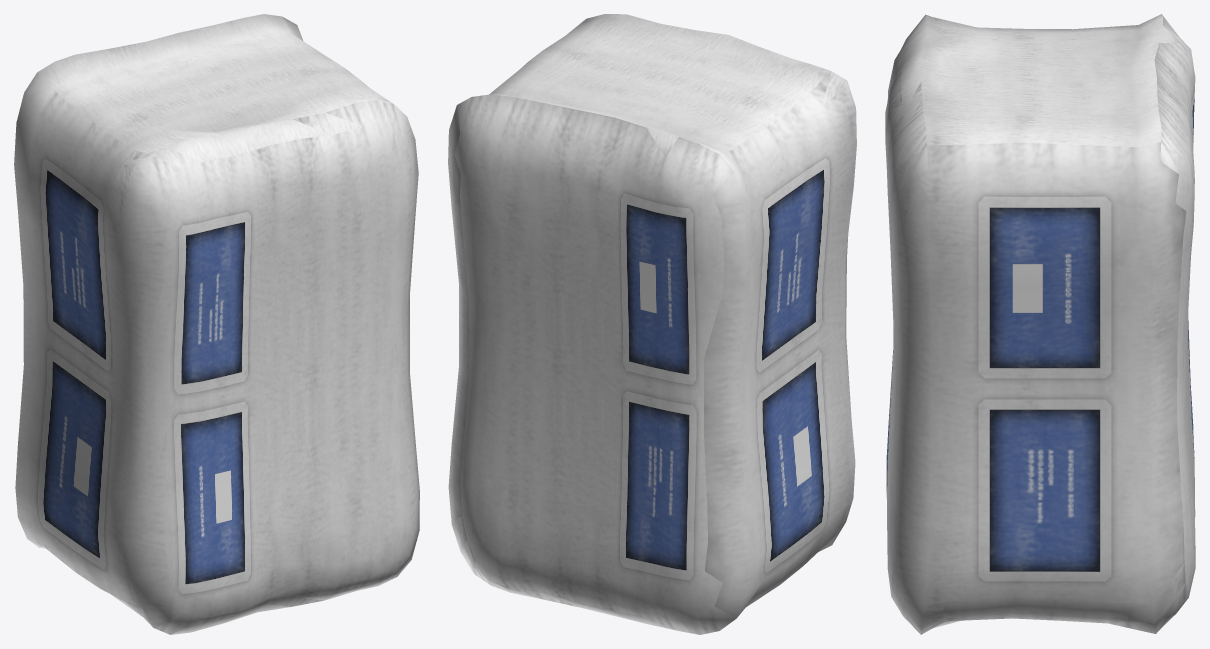
Rendered from ISS_INT_props_Bag_blue_and_White_medium.FBX.
3 views of the same model, side by side, from view 1: azimuth 30°, elevation 25°; view 2: azimuth 150°, elevation 25°; view 3: azimuth 270°, elevation 25° (orthographic). The views are drawn at different scales.
Parts seen in each view (by area): view 1: PMM_int; view 2: PMM_int; view 3: PMM_int.
Part boxes in pixels (x1,y1,x2,y2): PMM_int: [14, 14, 419, 634]; PMM_int: [448, 14, 856, 634]; PMM_int: [885, 14, 1195, 634].
Bounding box in the file's own units: 0.0428 × 0.0678 × 0.0372.
